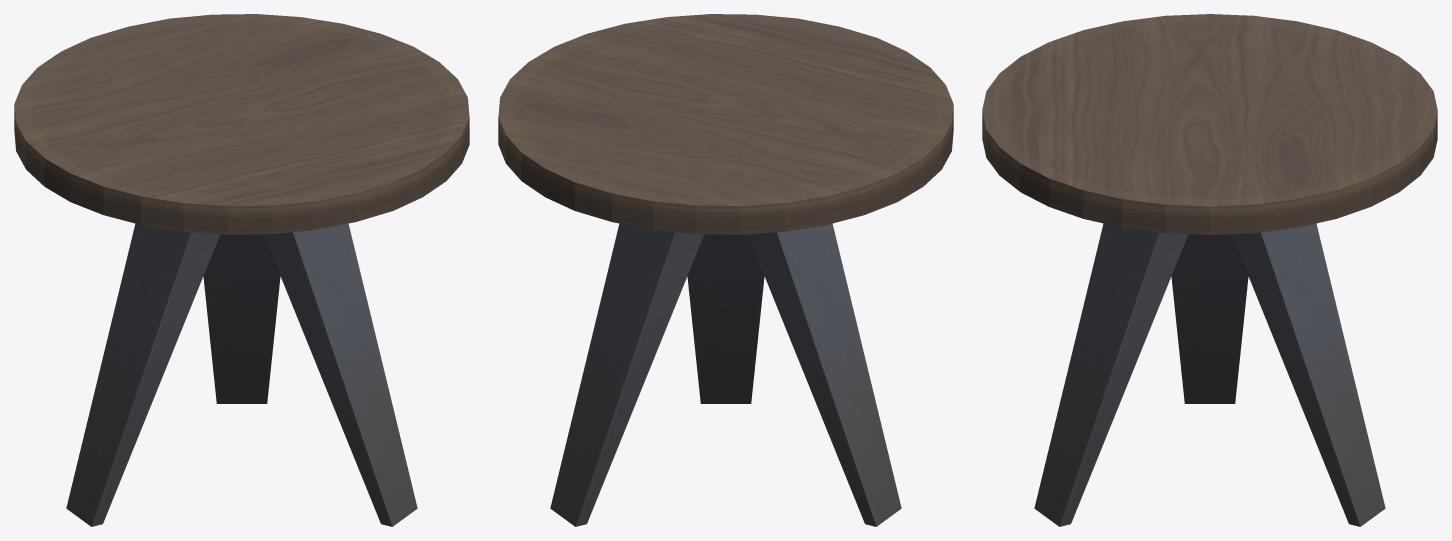
Rendered from P_Table_017_S1_M01.obj.
3 renders of one model, left to right at view 1: azimuth 30°, elevation 25°; view 2: azimuth 150°, elevation 25°; view 3: azimuth 270°, elevation 25°, orthographic.
Bounding box in the file's own units: 1.01 × 0.9 × 1.01.
1 material, 1 textured.
